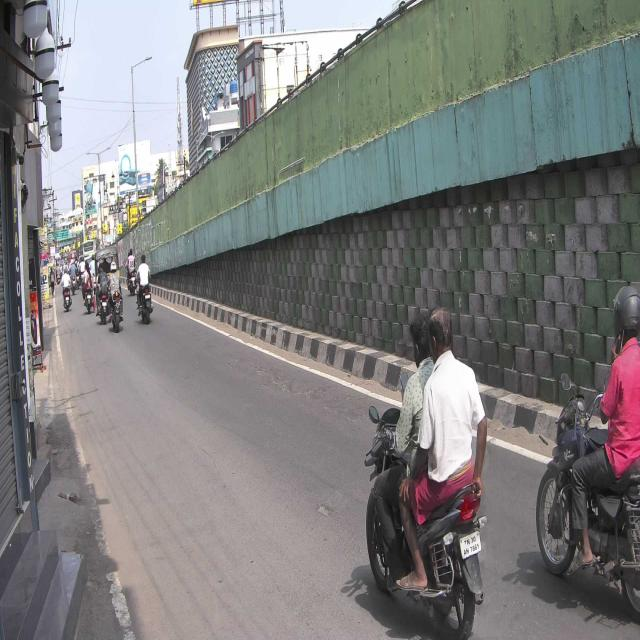double_rider: (363, 301, 488, 640)
single_rider: (534, 285, 640, 616)
